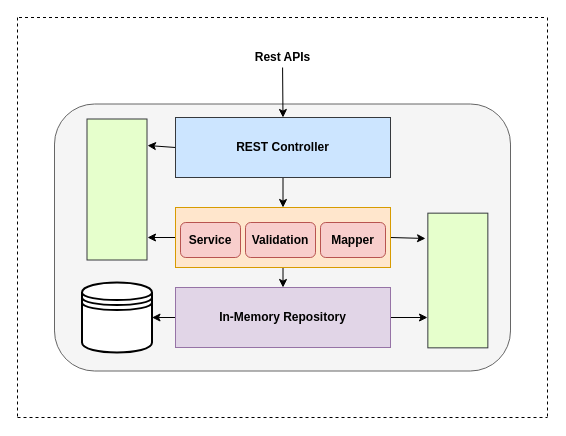
Image size: 566x436. Some labels were removed from this diagram. The box of each missing label's shape, as (x1, y1, x2, y2) in pixels:
DTOs: (86, 118, 147, 260)
Entities: (427, 212, 488, 348)
Map: (80, 281, 152, 353)
